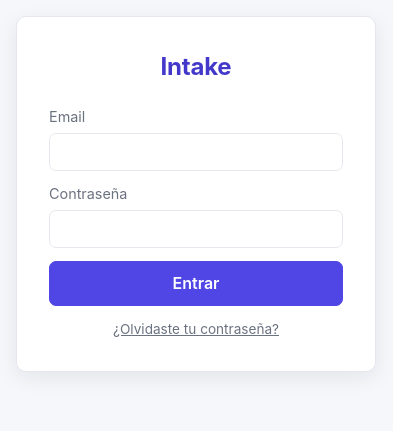
Test: failed login shows the error message
Type "ana@test.local" into the field labelled "Email" at (196, 152), box [49,133,343,171]
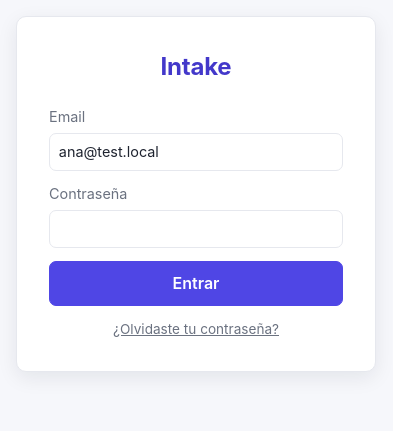
Type "bad" into the password field labelled "Contraseña" at (196, 229), box [49,210,343,248]
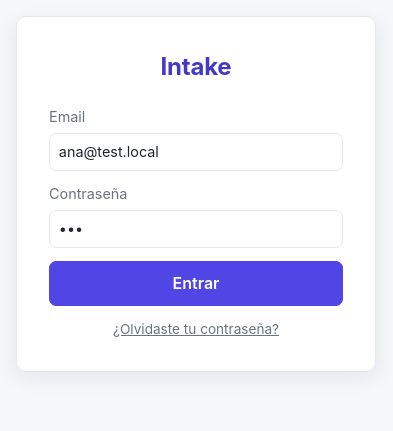
Click the button "Entrar" at (196, 283), box [49,260,343,306]
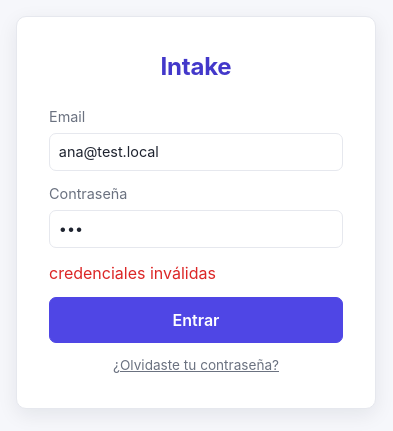
Expected: the message reads "credenciales inválidas", [49,262,216,282]
